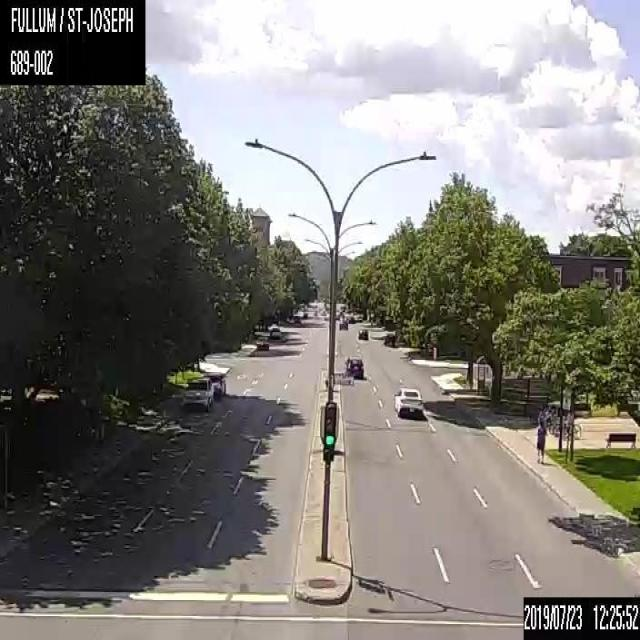pedestrian: (534, 415, 546, 464)
vehicle: (180, 376, 213, 409), (392, 387, 423, 416), (202, 370, 226, 400), (344, 355, 362, 380), (255, 336, 269, 349), (383, 332, 395, 347), (358, 328, 368, 339), (338, 318, 347, 330)
